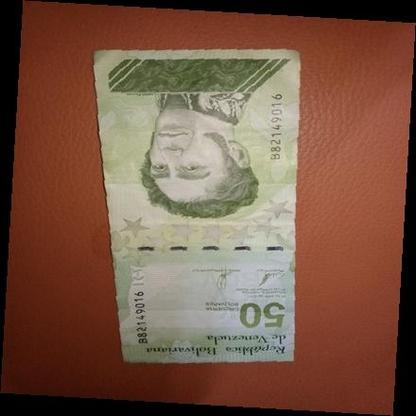fifty-front-vef: (92, 49, 300, 364)
